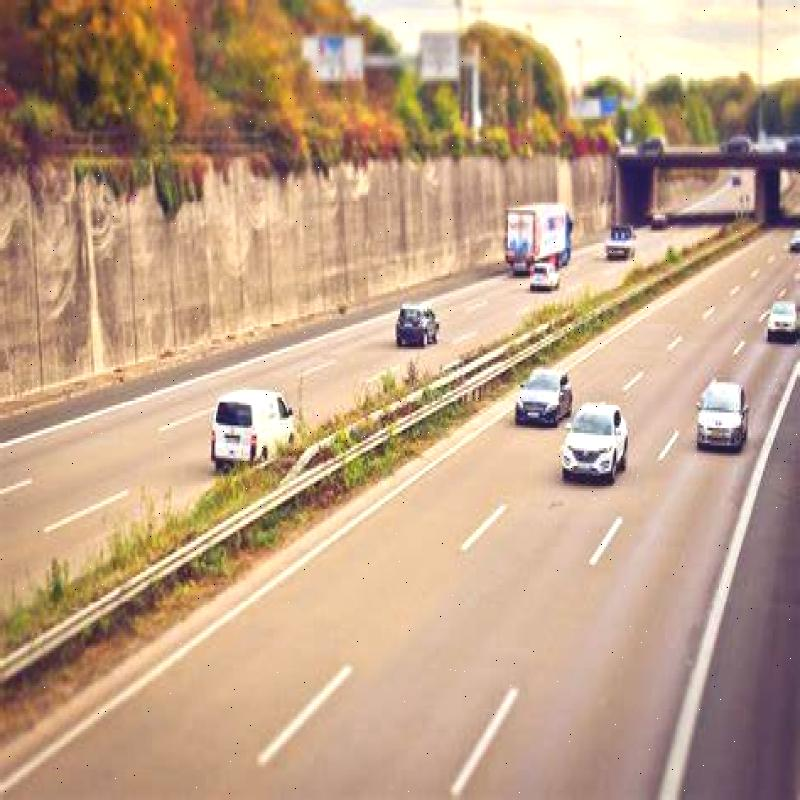bus: (498, 197, 576, 269)
car: (550, 397, 634, 506), (214, 376, 288, 460), (510, 353, 565, 436), (695, 378, 746, 457), (389, 303, 445, 358)
